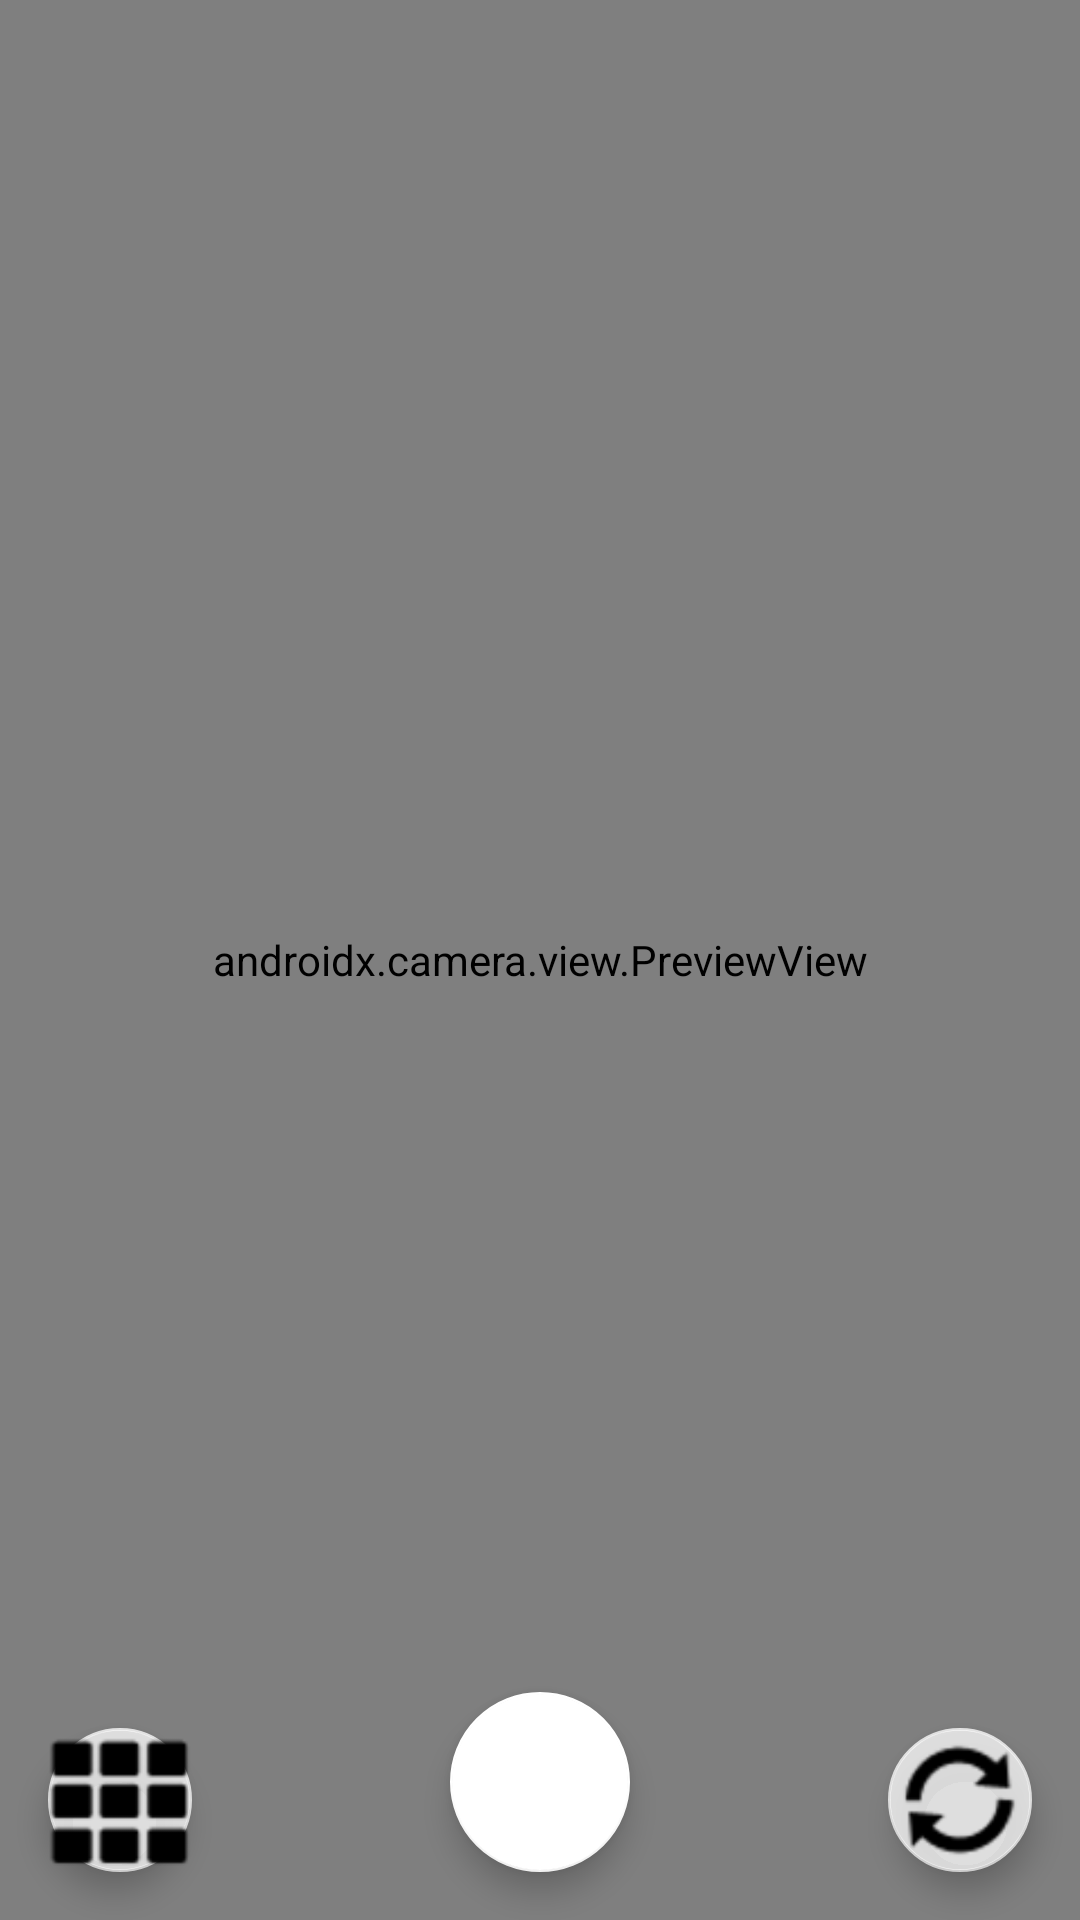

Named icons in this screenshot (1080*1920) and their bounding boxes, [x1, y1, x2, y2]:
FLIP: [888, 1728, 1032, 1872]
